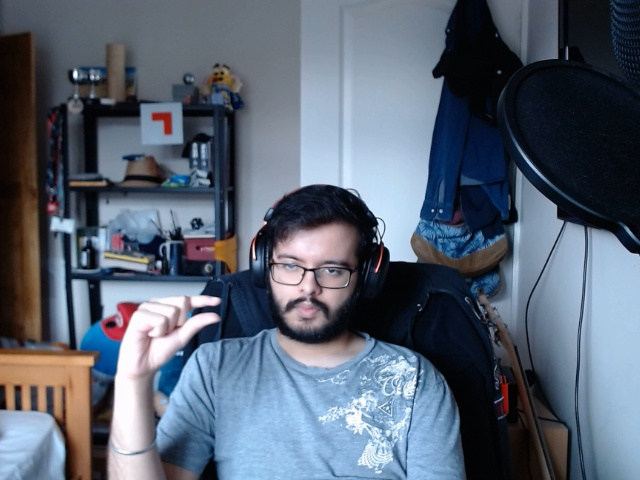Small: (111, 281, 226, 388)
